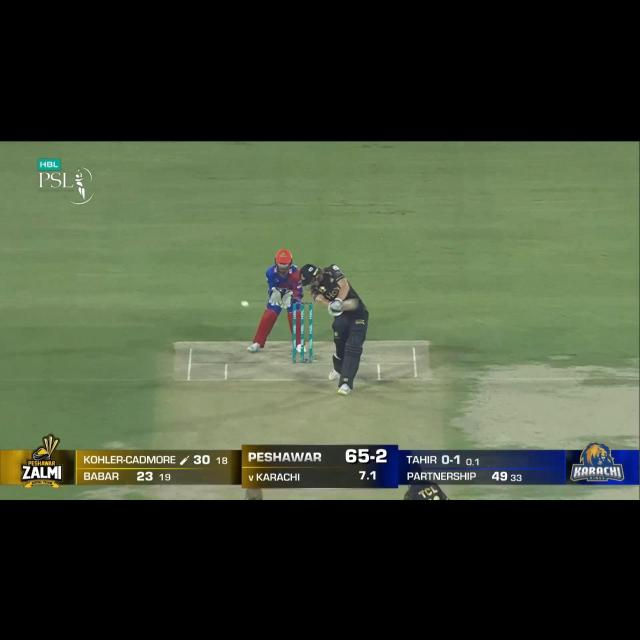bat: (328, 297, 359, 312)
